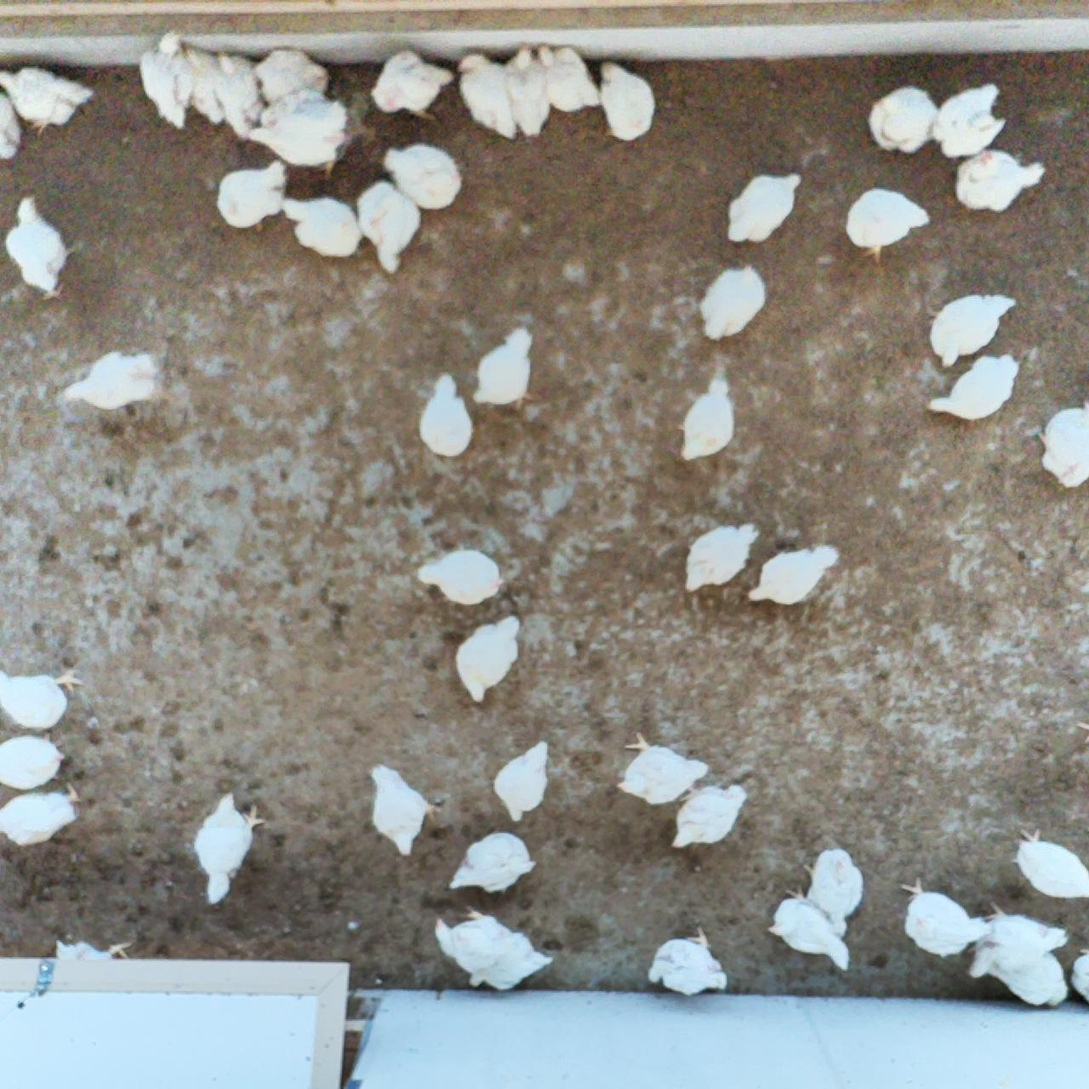chicken: (191, 787, 270, 911), (895, 870, 991, 963), (2, 189, 78, 306), (246, 94, 348, 180), (762, 884, 857, 975), (922, 351, 1024, 435), (925, 285, 1022, 371), (363, 759, 445, 860), (840, 182, 934, 267), (968, 938, 1074, 1012), (613, 730, 712, 806), (60, 344, 161, 418), (976, 895, 1069, 975), (368, 46, 462, 124), (352, 177, 424, 278), (451, 47, 525, 145), (443, 825, 542, 898), (722, 168, 809, 251), (0, 65, 95, 139), (679, 517, 763, 600), (213, 154, 292, 242), (743, 539, 842, 608), (798, 842, 869, 938), (452, 611, 524, 705), (951, 147, 1049, 216), (1008, 820, 1089, 903), (469, 324, 542, 415), (932, 80, 1009, 165), (412, 542, 508, 610), (645, 924, 731, 999), (695, 259, 770, 345), (277, 191, 364, 265), (380, 139, 465, 214), (668, 778, 750, 855), (0, 780, 85, 853), (136, 27, 195, 132), (430, 899, 516, 971), (498, 36, 557, 139), (671, 373, 738, 463), (594, 53, 658, 147), (1031, 393, 1089, 493), (466, 931, 556, 995), (0, 666, 84, 734), (416, 370, 477, 462), (865, 84, 941, 156), (490, 738, 553, 824), (249, 43, 333, 107), (207, 49, 264, 142), (534, 40, 603, 116), (178, 37, 229, 129), (0, 733, 71, 795), (248, 87, 331, 129), (0, 89, 25, 163), (1063, 943, 1089, 1006)
